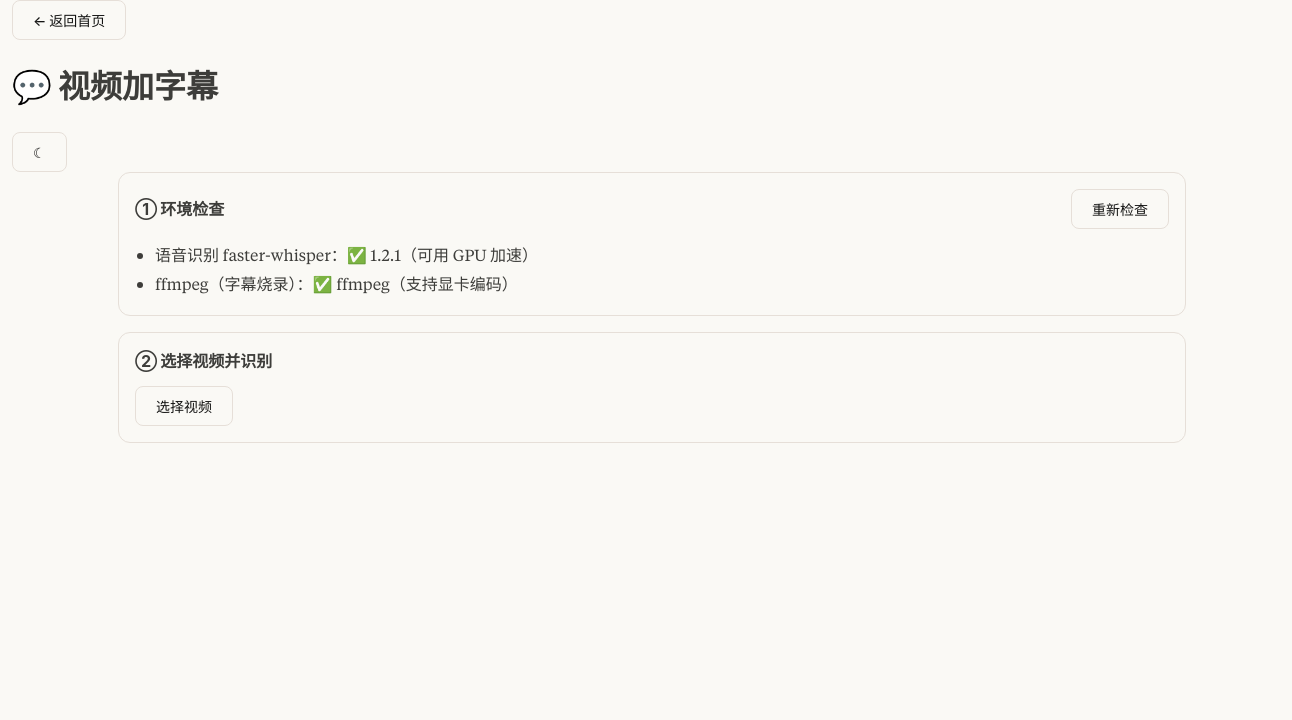
Scenario: VideoSubtitlePanel › toggling a cue language clears its translation
This screenshot has width=1292, height=720.
What coordinates should you click on to do the following:
click the button "选择视频"
I would click on:
 (184, 406)
Its box is [135,386,233,426].
(page scrolled)
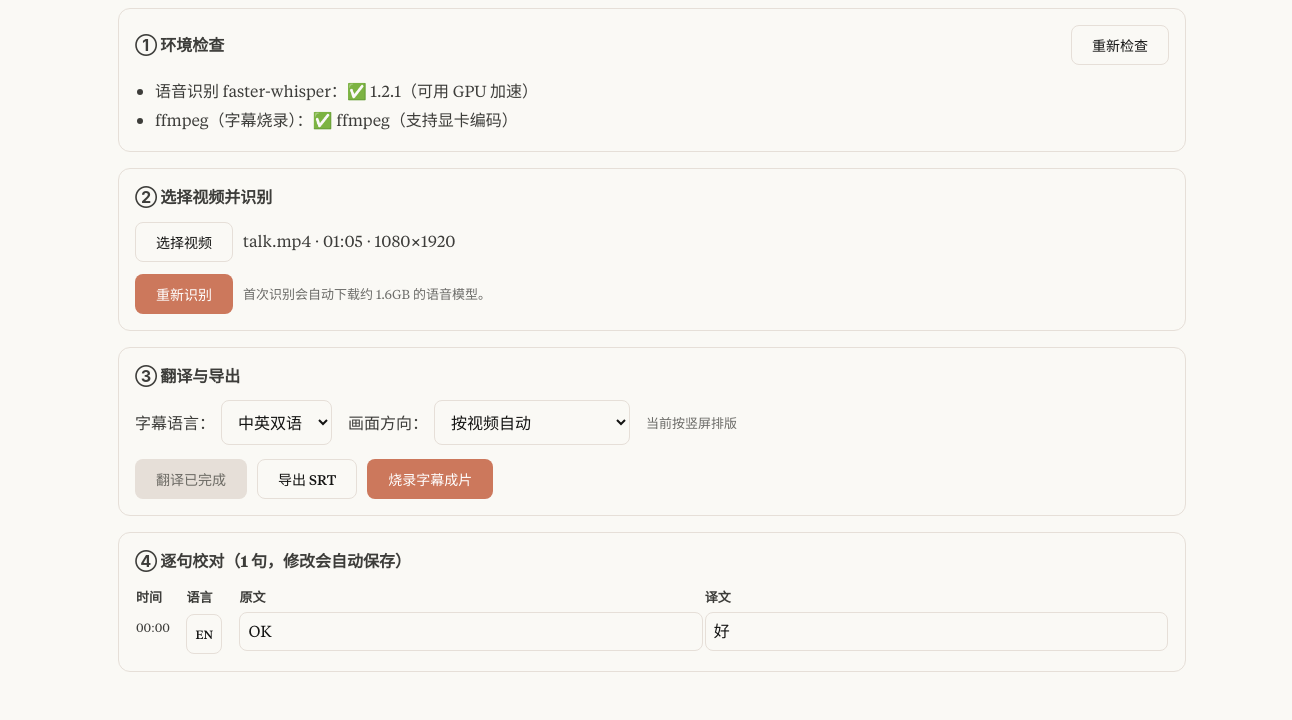
What coordinates should you click on to do the following:
click the button "EN"
I would click on:
 (204, 634)
Its box is [186,614,222,654].
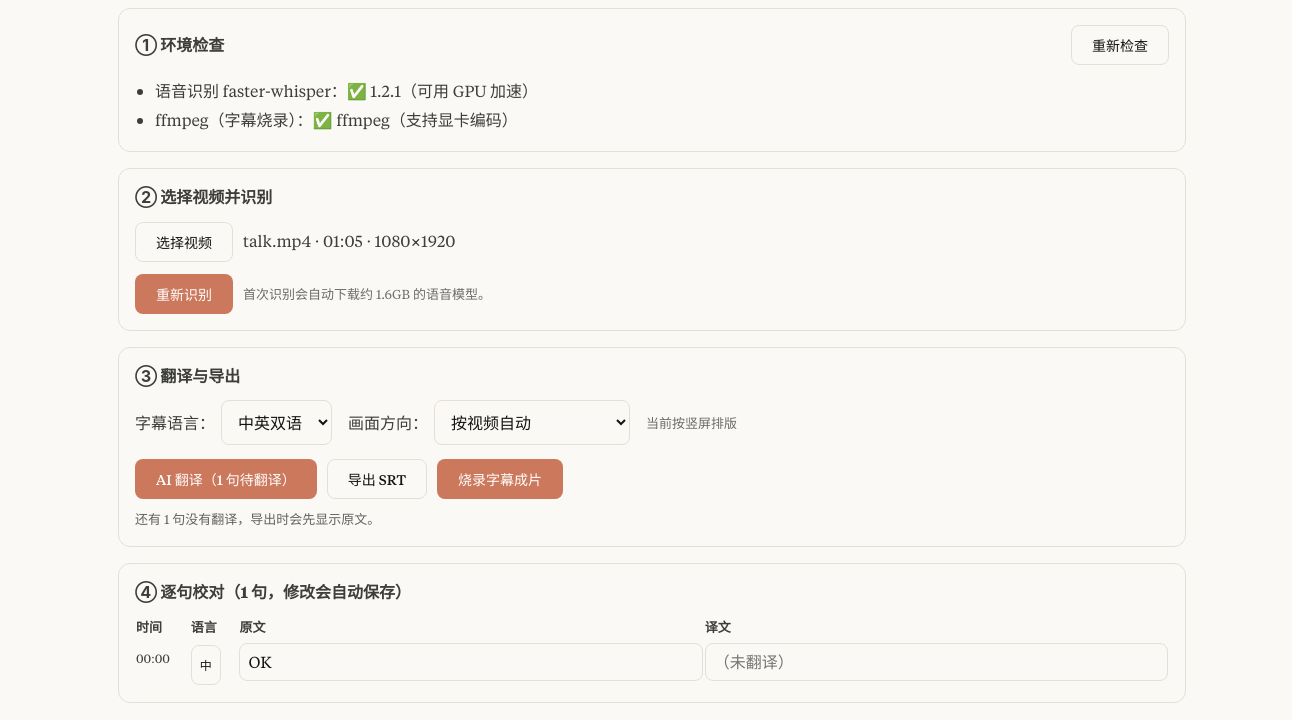
Result: the button "中" is shown at [191,644,221,684]
Result: the field named "第 1 句译文" is empty at [705,643,1168,681]
